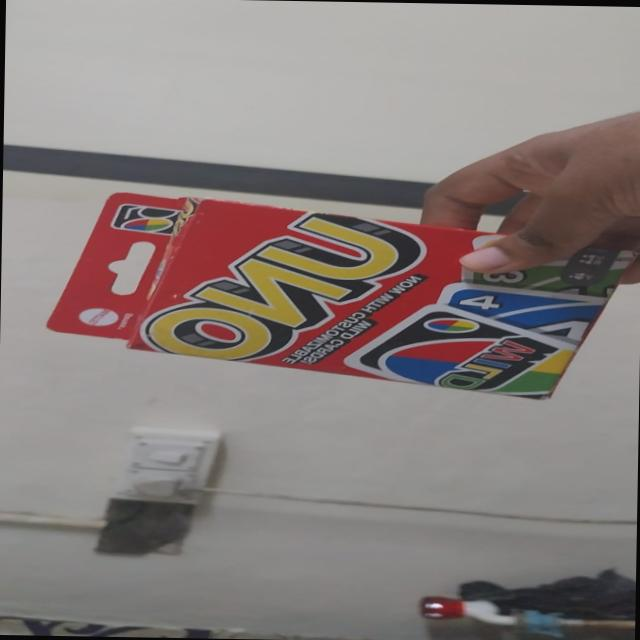Paper - Recyclable: (41, 188, 640, 401)
